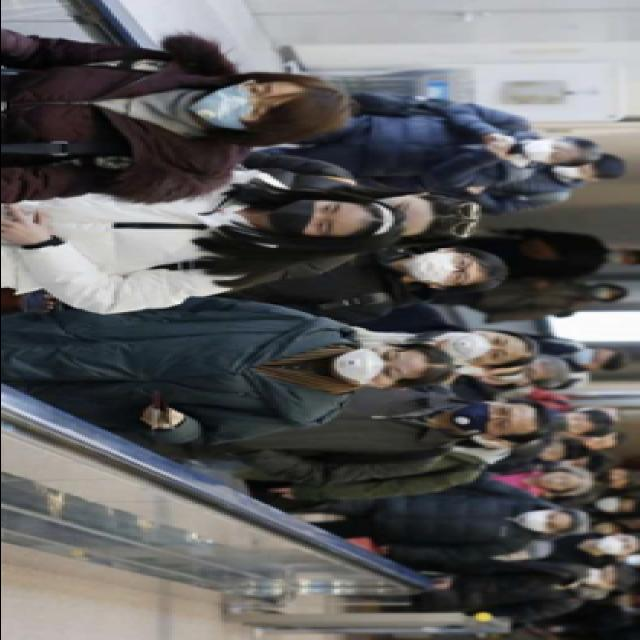with_mask: (191, 78, 281, 130), (266, 195, 348, 235), (330, 344, 408, 384), (448, 398, 518, 436), (446, 329, 516, 364), (406, 250, 478, 284), (524, 138, 568, 164), (516, 507, 564, 530), (596, 533, 634, 555), (554, 162, 594, 178), (585, 564, 614, 586), (594, 494, 628, 512), (574, 346, 606, 364), (594, 286, 622, 298), (608, 250, 631, 262)
without_mask: (542, 469, 580, 488)
